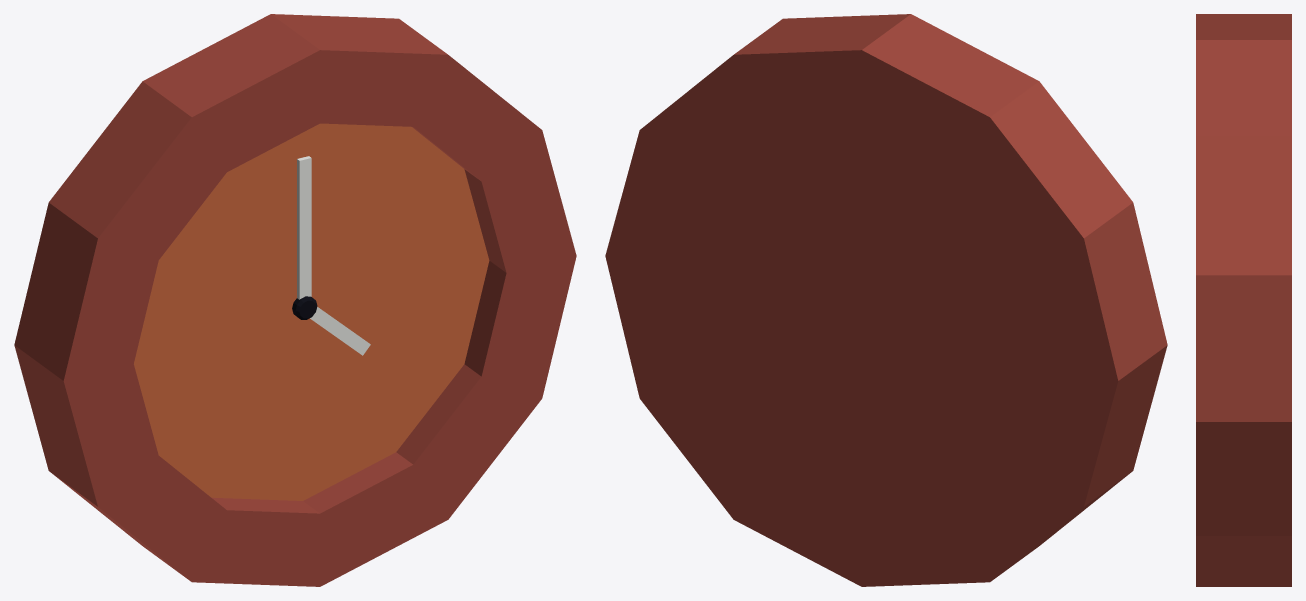
The model's file is relógio.fbx.
The picture shows the model from 3 angles, left to right: view 1: azimuth 30°, elevation 25°; view 2: azimuth 150°, elevation 25°; view 3: azimuth 270°, elevation 25°; orthographic projection. The views are drawn at different scales.
Visible parts, largest first — view 1: Circle.018; view 2: Circle.018; view 3: Circle.018.
Boxes of the visible parts, box(x1,y1,x2,y2) form: Circle.018: box(14, 14, 576, 586); Circle.018: box(605, 14, 1167, 586); Circle.018: box(1196, 14, 1291, 586).
Size of the model in its own units: 63.3 by 63.3 by 10.55.
